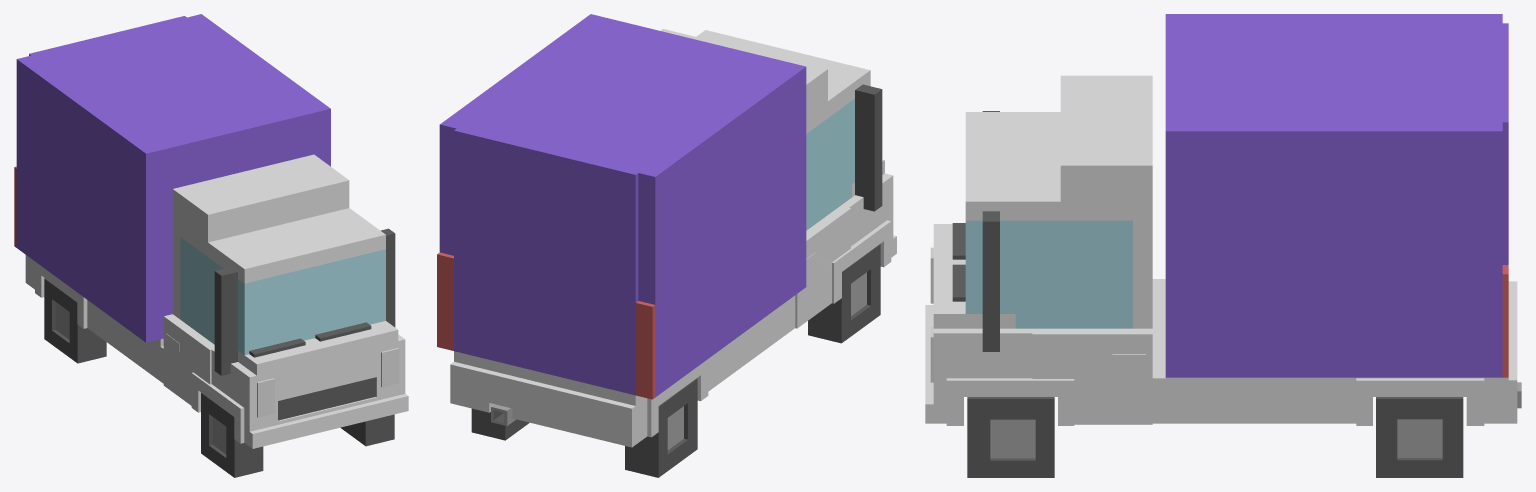
The model's file is tovornjak.fbx.
The picture shows the model from 3 angles, left to right: view 1: azimuth 30°, elevation 25°; view 2: azimuth 150°, elevation 25°; view 3: azimuth 270°, elevation 25°; orthographic projection. The views are drawn at different scales.
Parts seen in each view (by area): view 1: Camera; view 2: Camera; view 3: Camera.
Boxes of the visible parts, x1,y1,x2,y2 form: Camera: [14, 14, 408, 477]; Camera: [437, 14, 896, 477]; Camera: [925, 14, 1521, 477].
Size of the model in its own units: 128 by 180 by 274.
